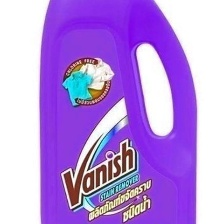cleaning_solution: (34, 0, 199, 224)
